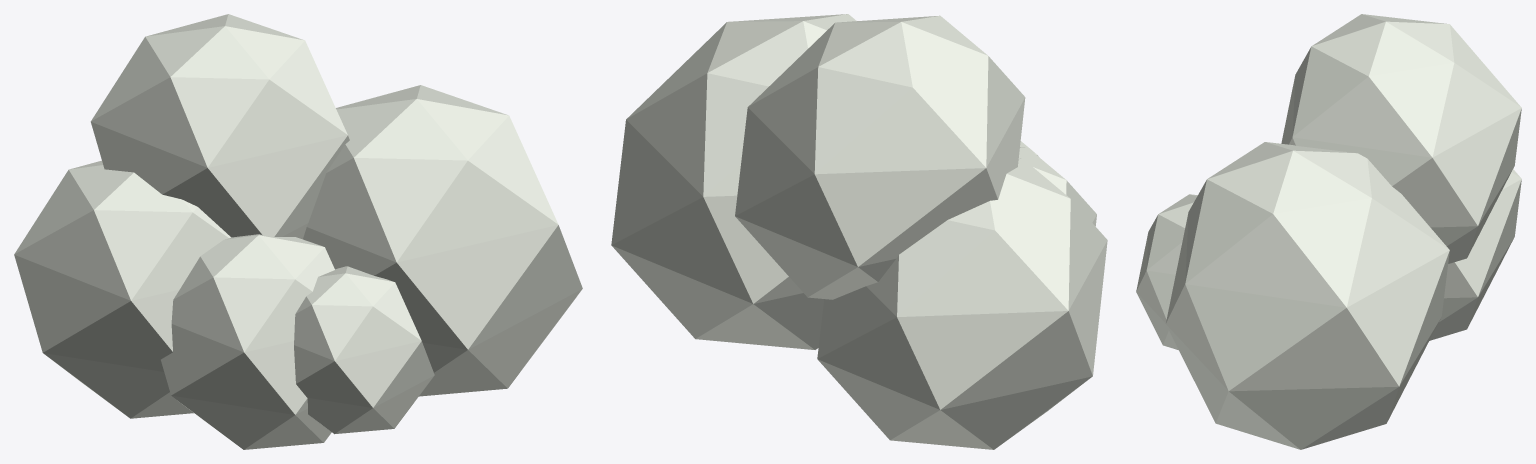
The model's file is Cloud_2.fbx.
The picture shows the model from 3 angles, left to right: view 1: azimuth 30°, elevation 25°; view 2: azimuth 150°, elevation 25°; view 3: azimuth 270°, elevation 25°; orthographic projection. The views are drawn at different scales.
Visible parts, largest first — view 1: Bush_4; view 2: Bush_4; view 3: Bush_4.
Part boxes in pixels (x1,y1,x2,y2): Bush_4: (14, 14, 582, 449); Bush_4: (611, 14, 1107, 449); Bush_4: (1136, 14, 1521, 449).
Bounding box in the file's own units: 3.71 × 2.88 × 2.91.
Materials: 1 (1 with a texture image).
